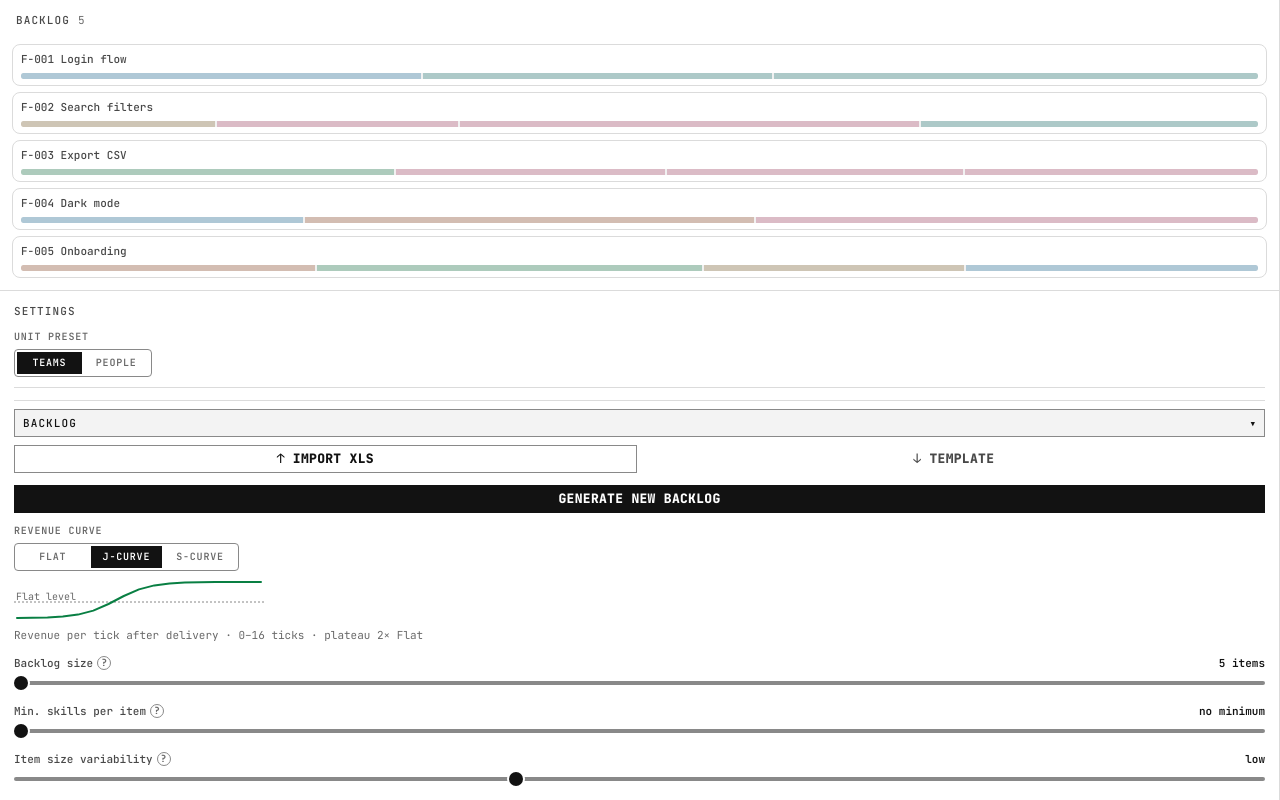
Test: feat-017: přepínač „Revenue curve“ v BacklogSettingsPanel › hover hint zvoleného profilu „j-curve“ popisuje jeho tvar
The image size is (1280, 800).
Hover over the button "Flat".
mouse_move(53, 557)  # box [17,546,89,568]
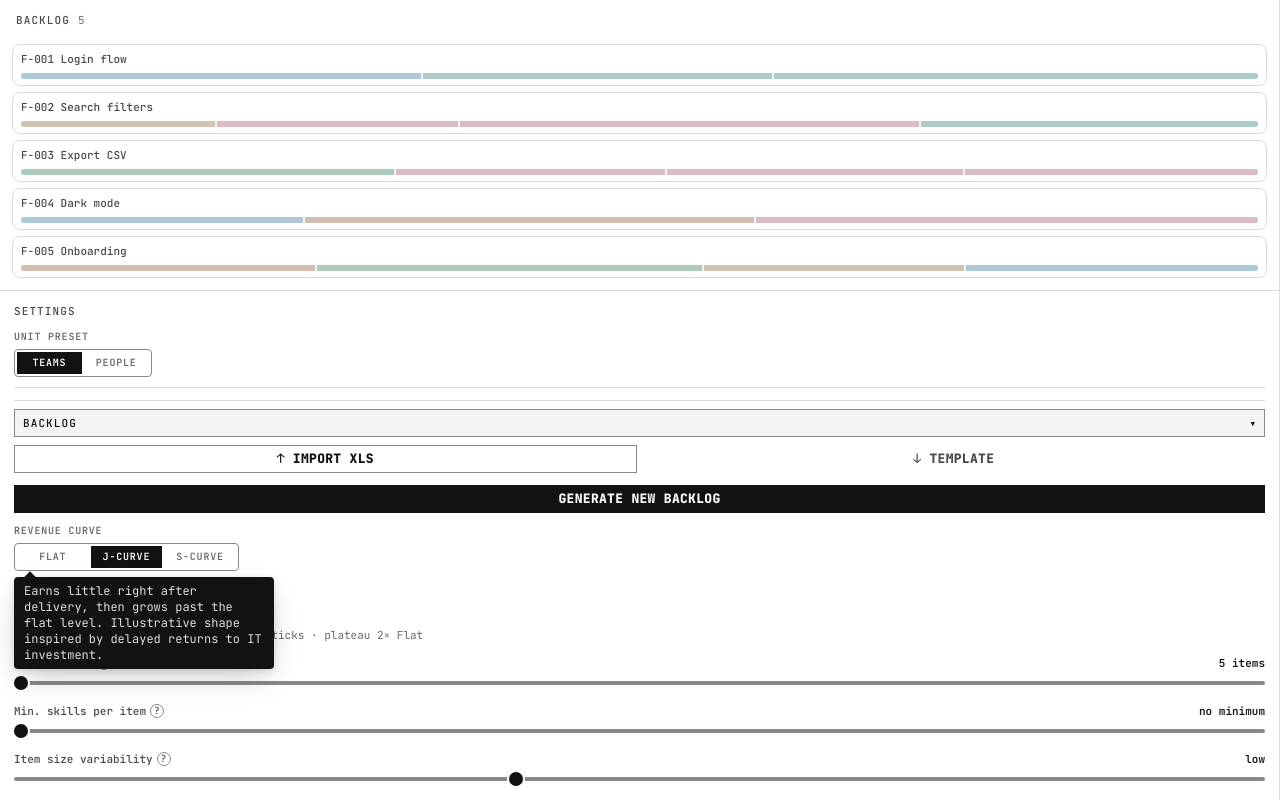
Now the text "Earns little right after delivery, then grows past the flat level. Illustrative shape inspired by delayed returns to IT " is shown, box [24,583,262,663]
